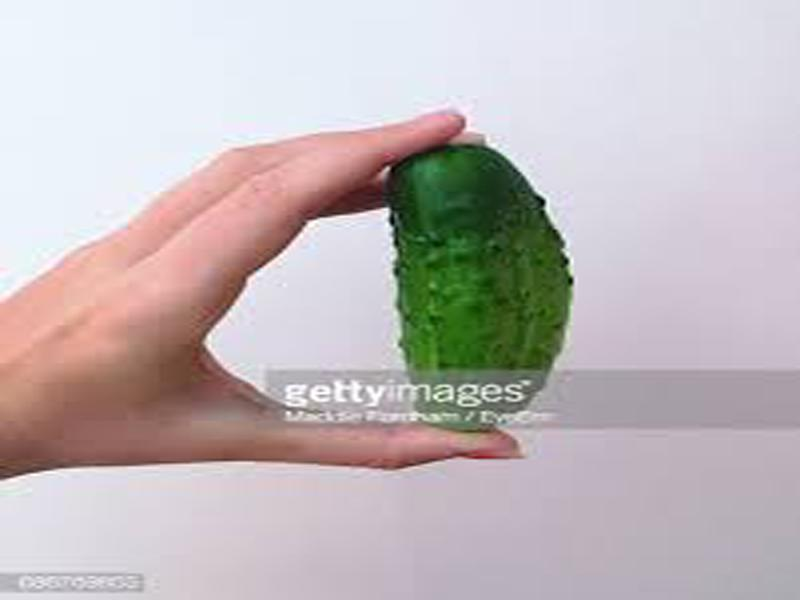Cucumber: (390, 143, 573, 433)
